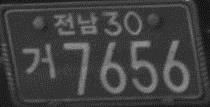0: (124, 10, 143, 37)
3: (101, 10, 122, 37)
5: (129, 39, 158, 95)
6: (161, 39, 190, 94), (100, 41, 127, 94)
7: (61, 41, 90, 95)
거: (21, 42, 58, 81)
전남_O: (52, 10, 98, 37)
